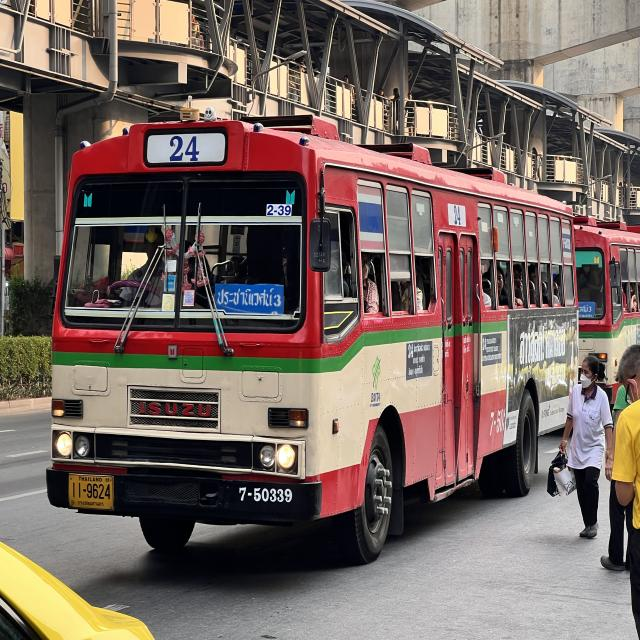BMTA-bus: (42, 84, 584, 570)
Bus-Line-Number: (145, 130, 226, 163)
Destination-Sign-Normal: (217, 282, 287, 314)
